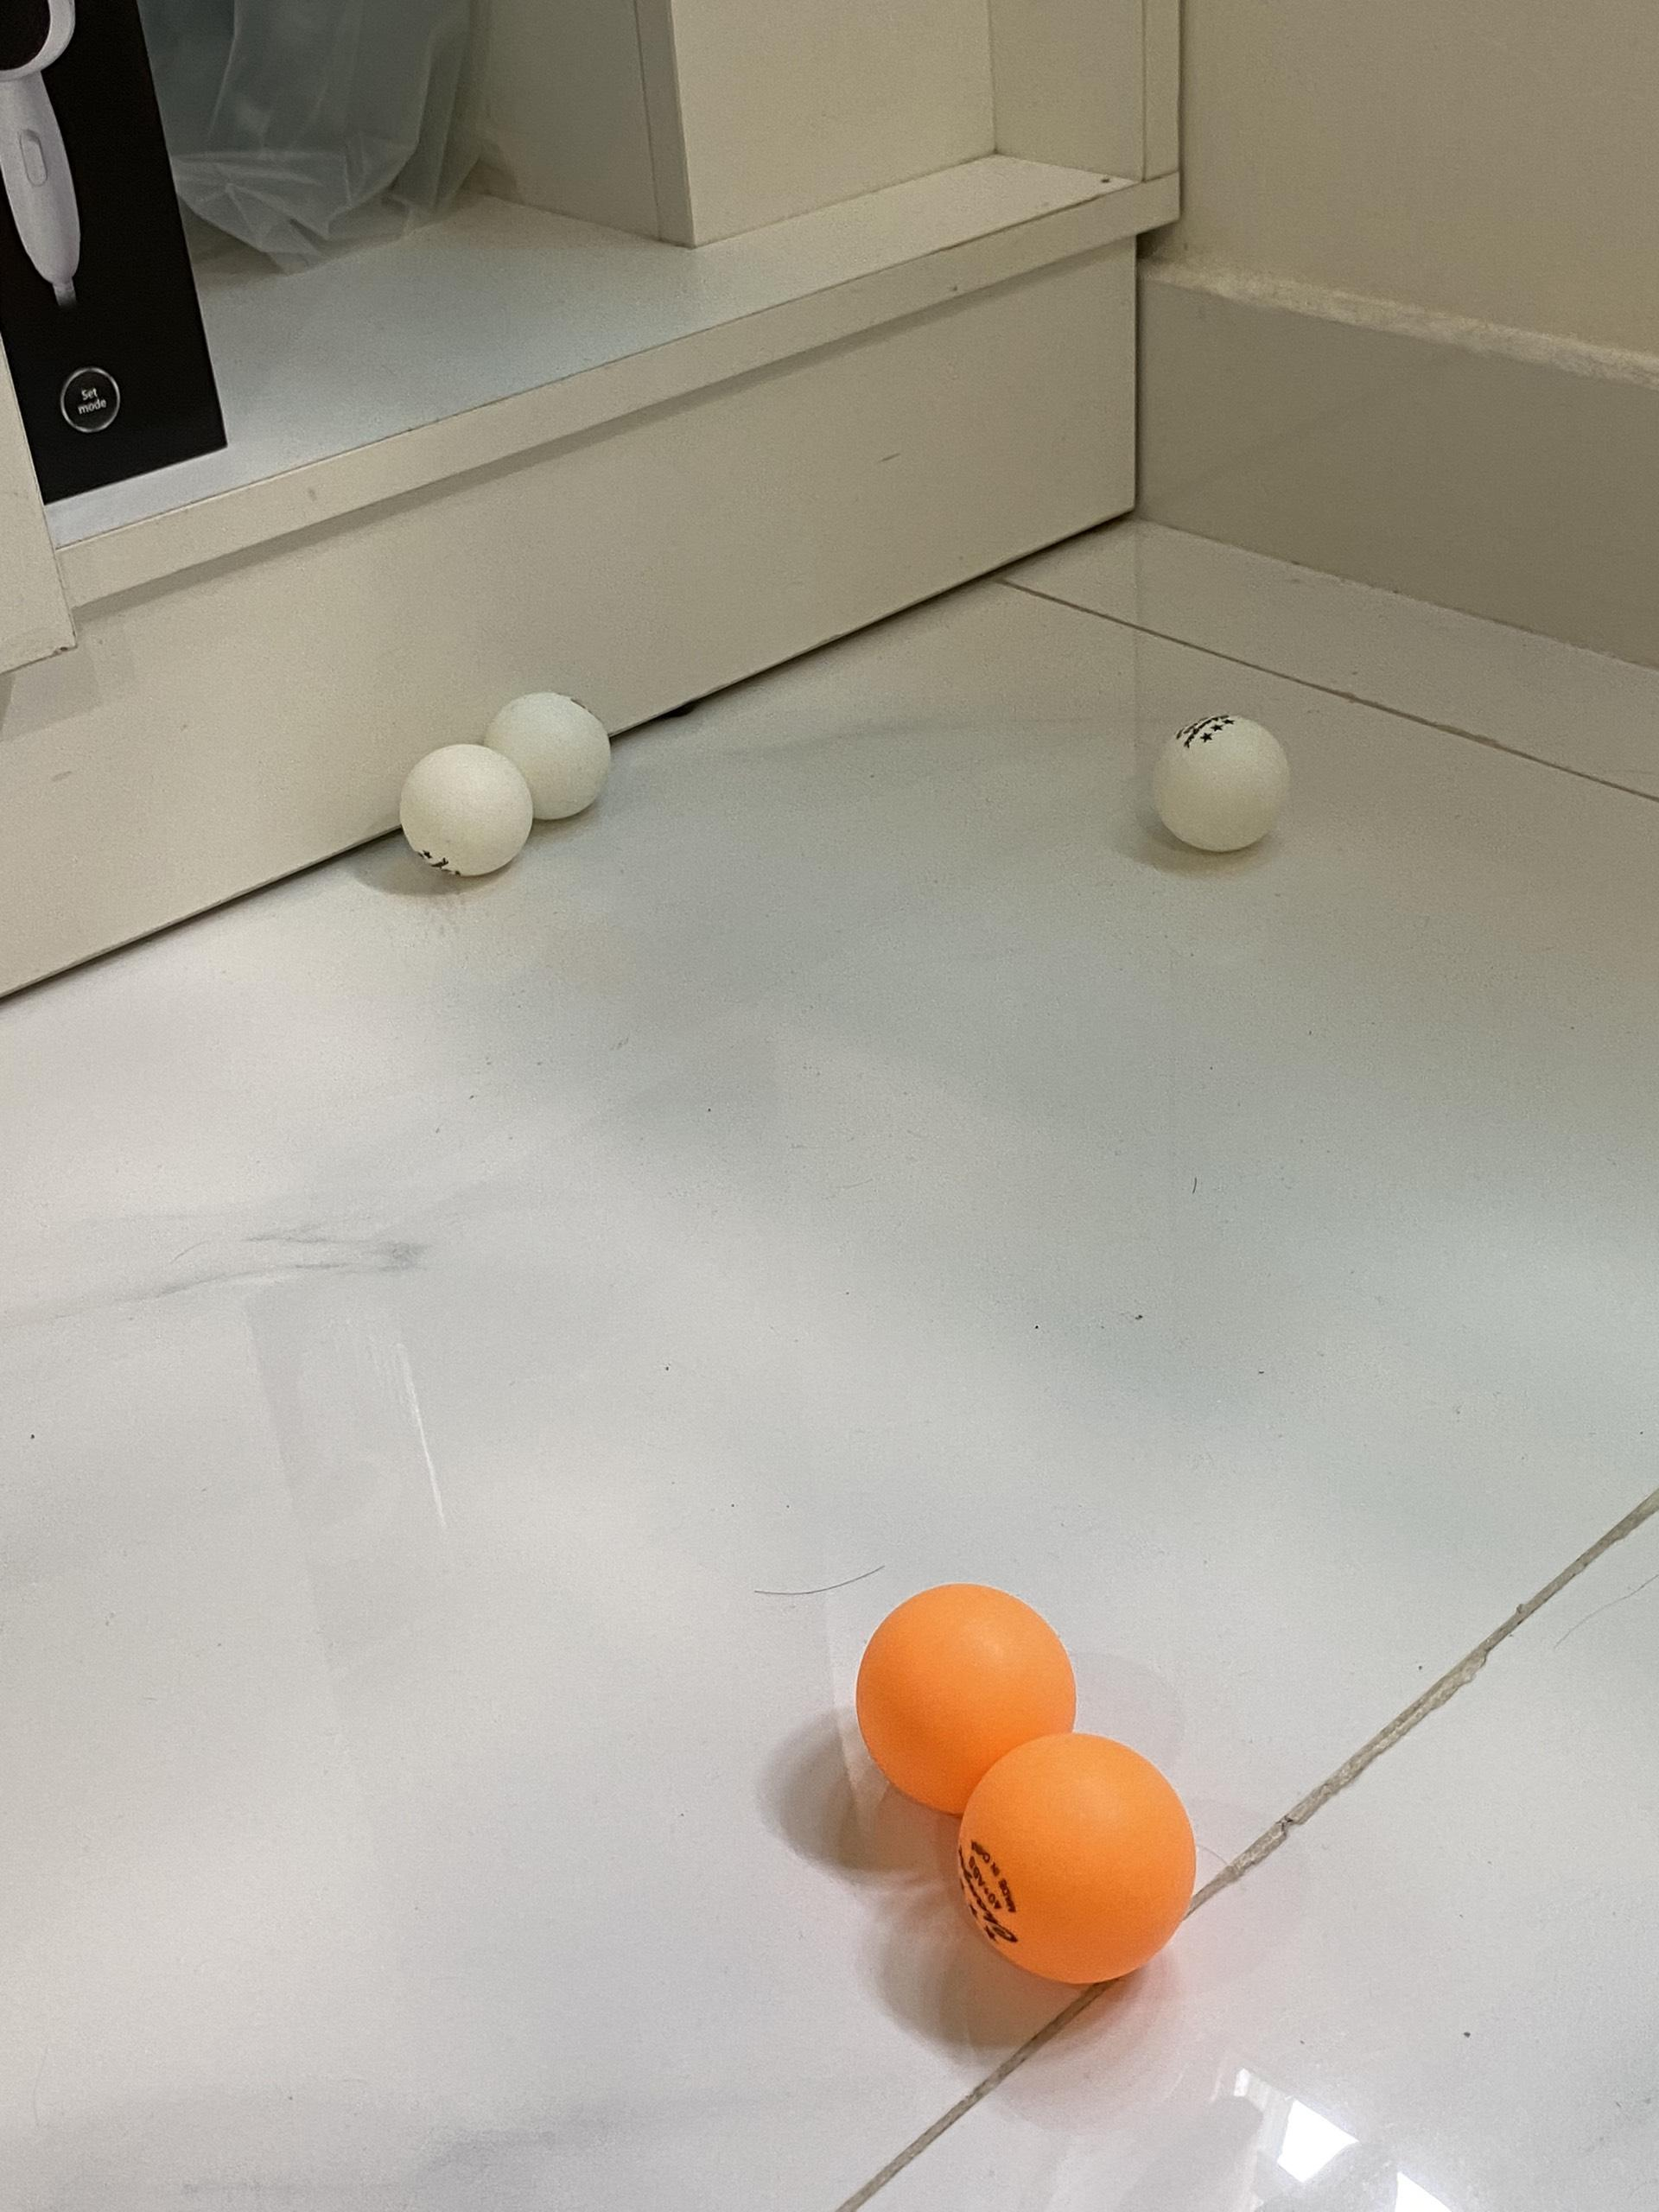oball: (958, 1737, 1199, 1984), (856, 1581, 1080, 1817)
